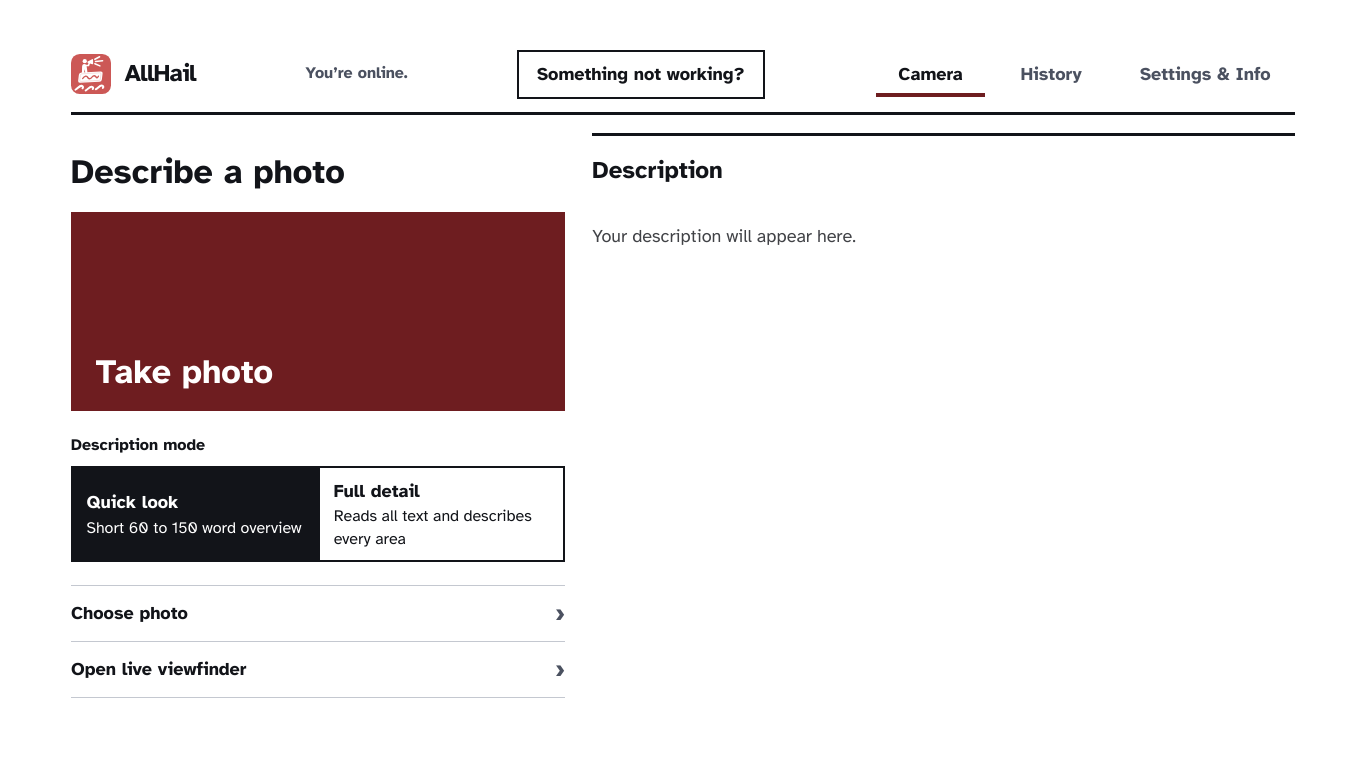
Something not working? entry › is in the header on every screen, opens the guided report, and Cancel goes back
The width and height of the screenshot is (1366, 768).
Click the button "History" at (1051, 74), box [996,50,1106,98]
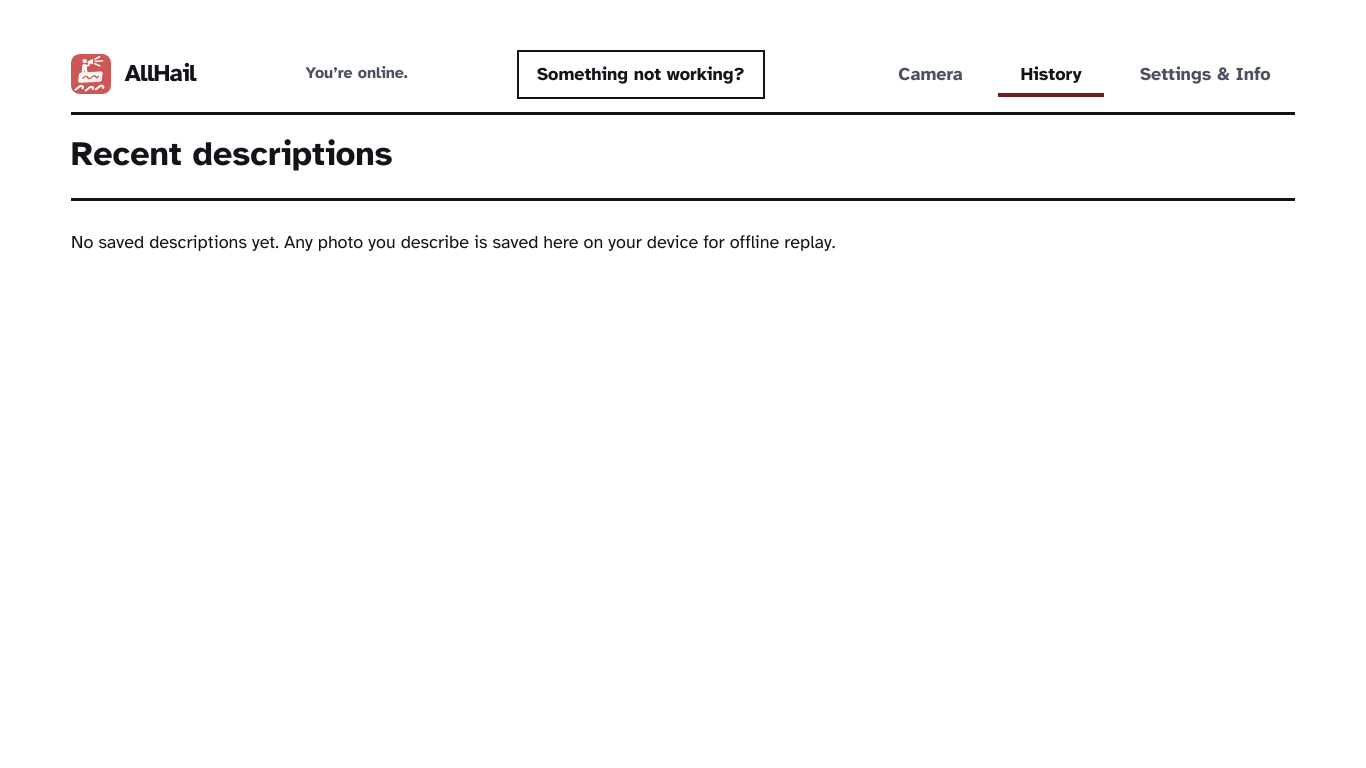
Click the button "Something not working?" at (641, 74), box [517,50,765,98]
(page scrolled)
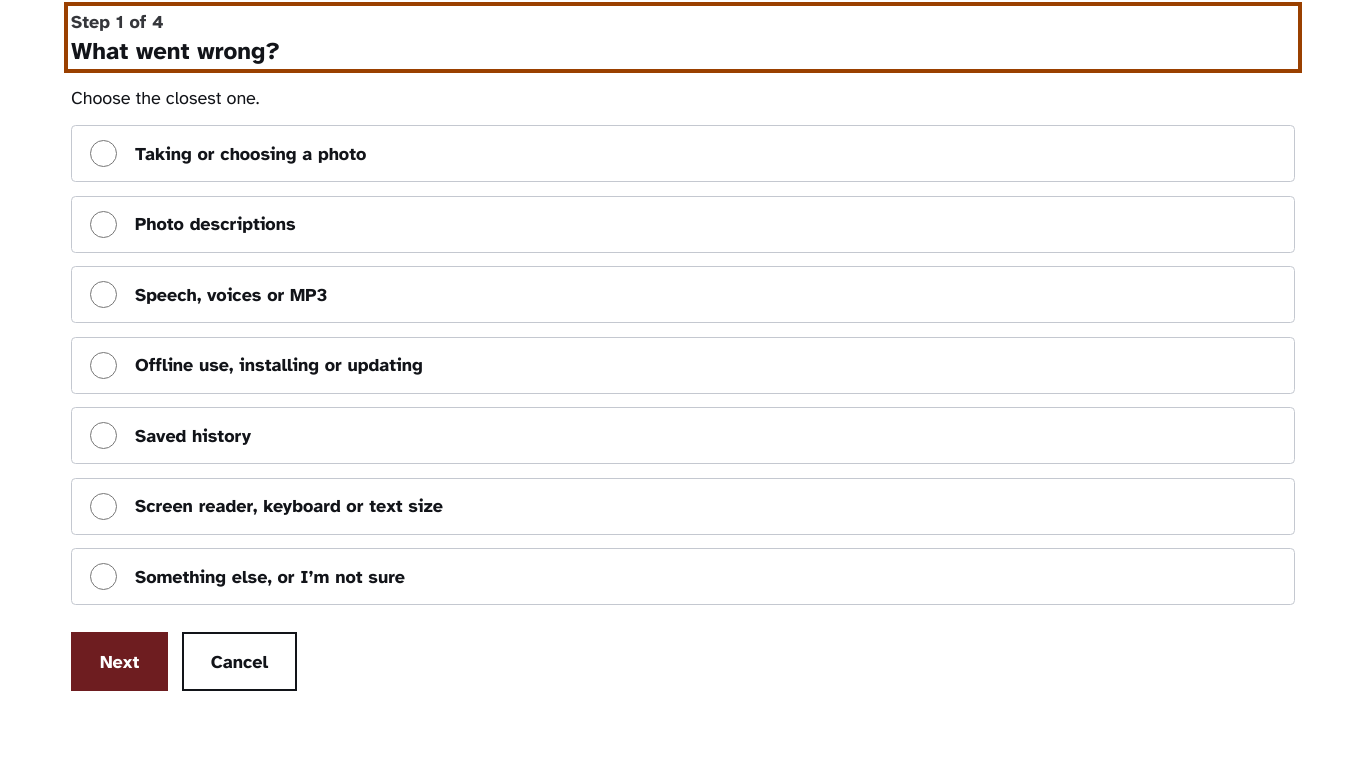
Click the button "Cancel" at (239, 662), box [182,632,297,691]
(page scrolled)
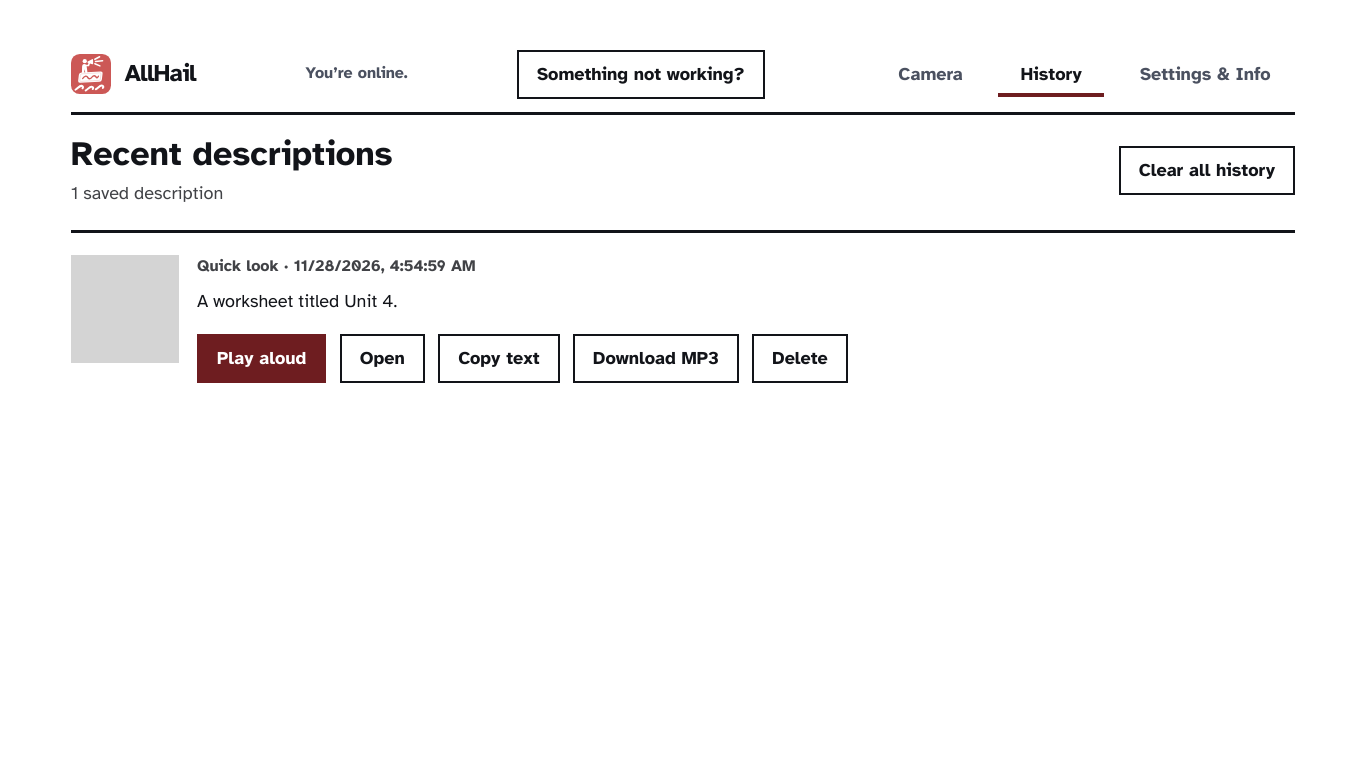
expect the heading "Recent descriptions" is shown: met, box [71,133,393,176]
